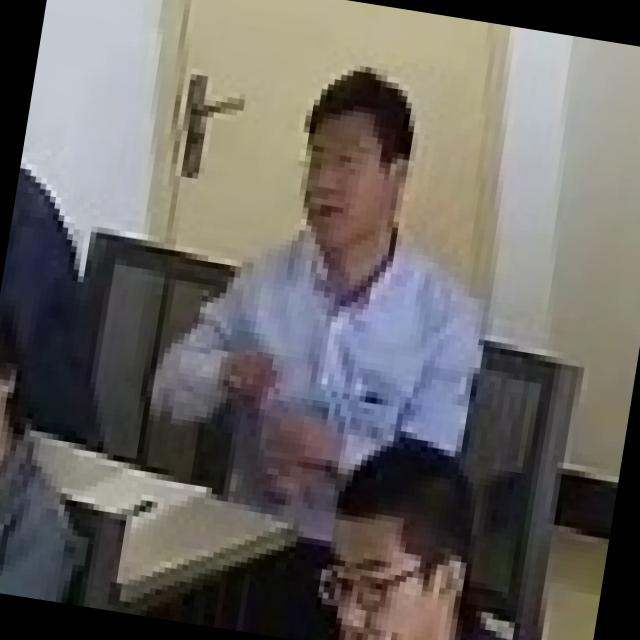listen: (147, 38, 534, 448), (241, 406, 565, 640)
